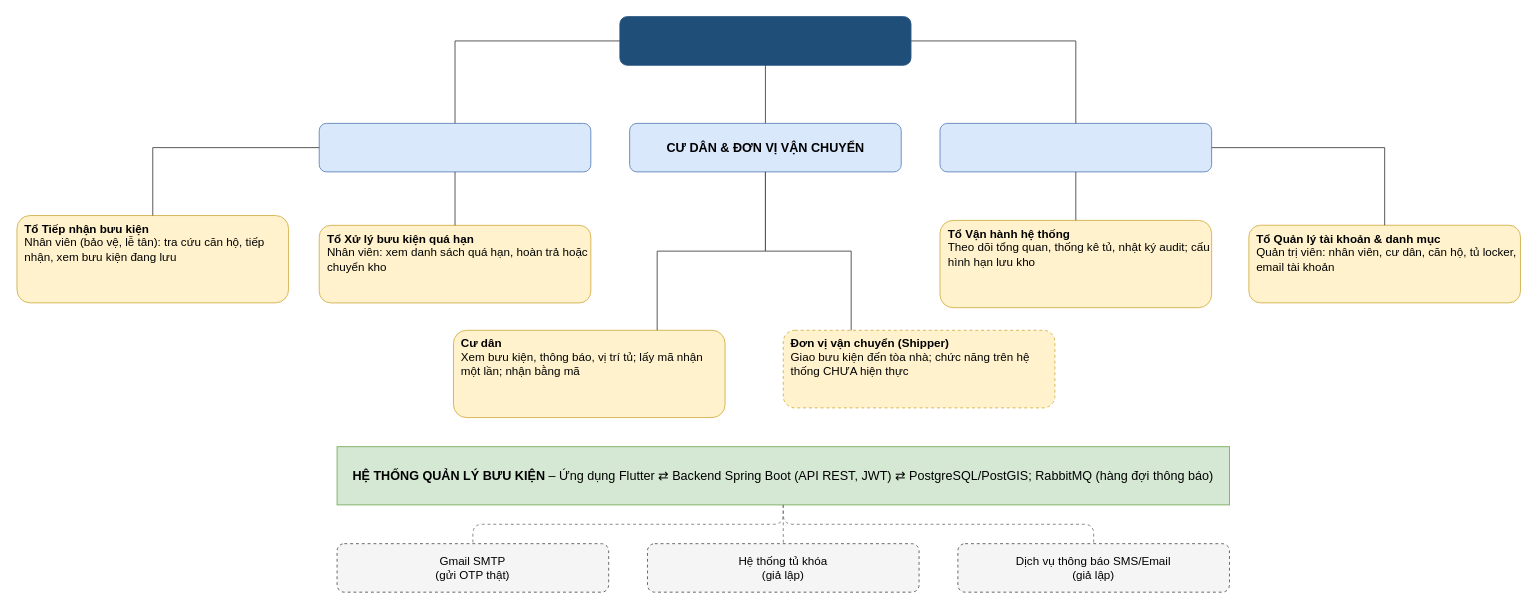
Image size: 1537x610. Some labels were removed from this diagram. Each missing label, with the centre of its shape:
BAN QUẢN LÝ TÒA NHÀ: the point at 765,40
BỘ PHẬN KỸ THUẬT & QUẢN TRỊ: the point at 1075,147
BỘ PHẬN TIẾP NHẬN & LƯU KHO: the point at 454,147
